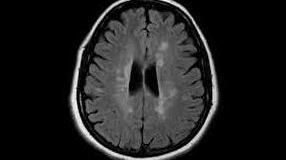Normal_Brain: (49, 1, 240, 159)
